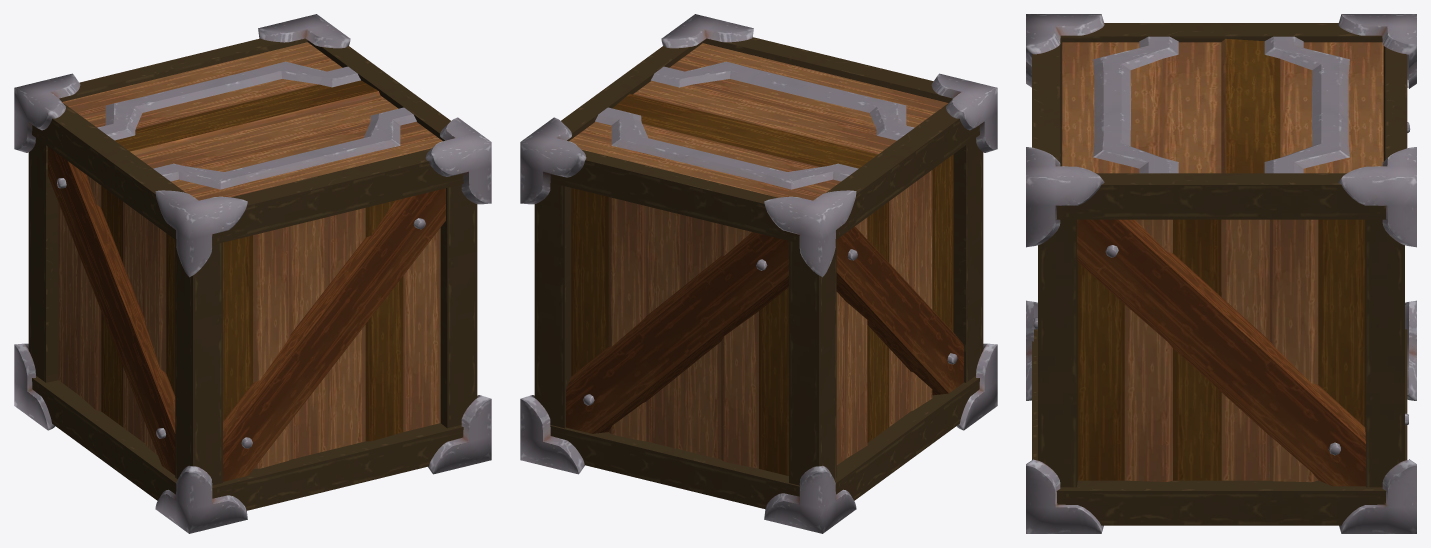
File: Crate Metal.glb
3 views of the same model, side by side, from view 1: azimuth 30°, elevation 25°; view 2: azimuth 150°, elevation 25°; view 3: azimuth 270°, elevation 25° (orthographic). The views are drawn at different scales.
Visible parts, largest first — view 1: Crate_Metal; view 2: Crate_Metal; view 3: Crate_Metal.
Boxes of the visible parts, x1,y1,x2,y2 form: Crate_Metal: (14, 14, 491, 533); Crate_Metal: (520, 14, 997, 533); Crate_Metal: (1026, 14, 1416, 533).
Size of the model in its own units: 0.8639 by 0.8679 by 0.8659.
2 materials, 2 textured.
